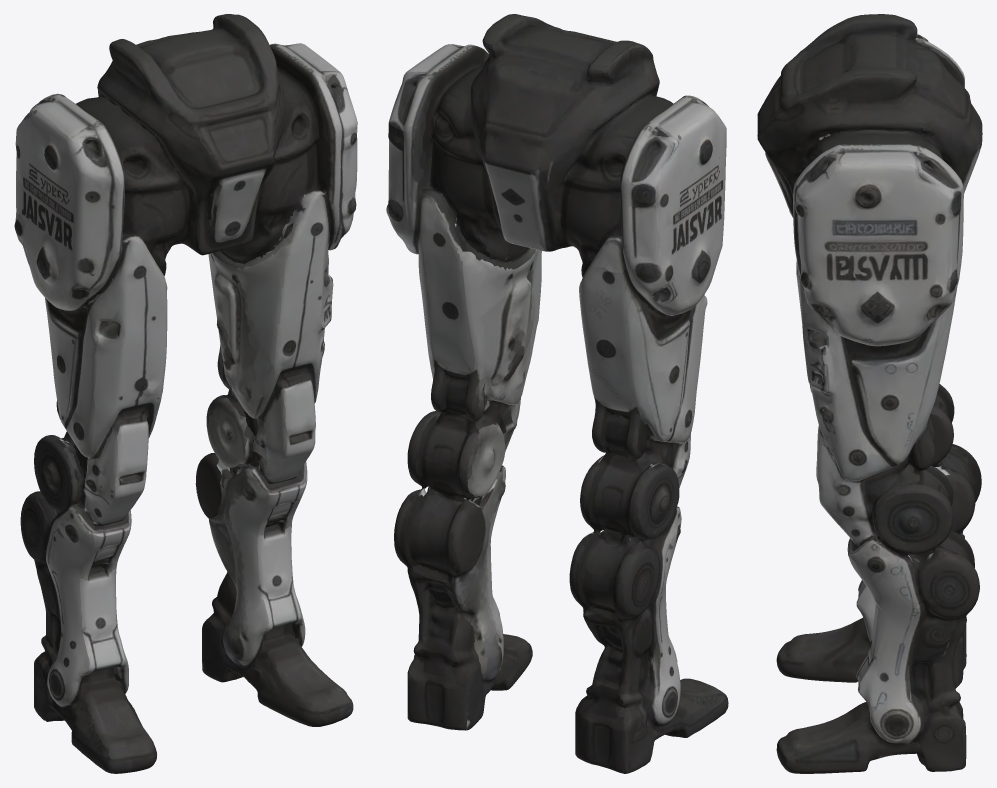
3 views of the same model, side by side, from view 1: azimuth 30°, elevation 25°; view 2: azimuth 150°, elevation 25°; view 3: azimuth 270°, elevation 25° (orthographic).
Visible parts, largest first — view 1: temp_mesh.ply; view 2: temp_mesh.ply; view 3: temp_mesh.ply.
Boxes of the visible parts, x1,y1,x2,y2 form: temp_mesh.ply: (14,14,357,773); temp_mesh.ply: (386,14,728,773); temp_mesh.ply: (757,14,982,773).
Bounding box in the file's own units: 0.883 × 1.97 × 0.5966.
1 material, 1 textured.
